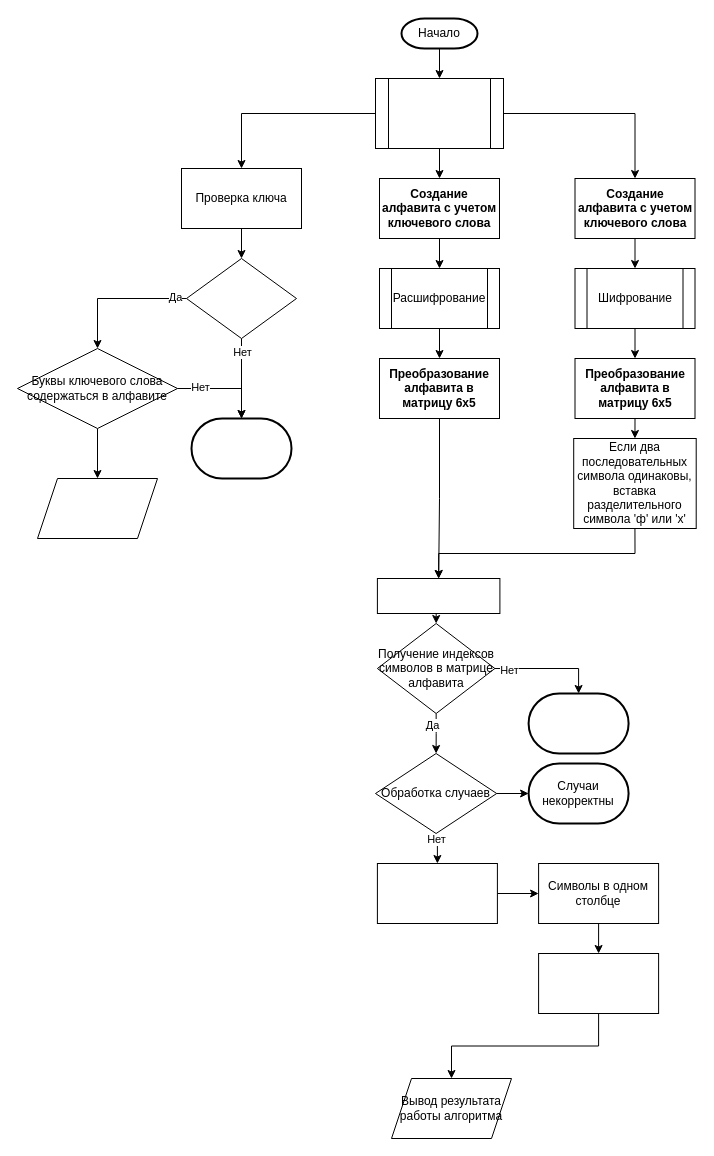
Some shapes in this 714 by 1156 pixel diagram are drawn without their labels. The shapes that lost their labels are listed below. From the top down, each one's centre as x and y in pixels, then its label:
the point at 439,113: Получение подготовленного текста, матрицы, алфавита и ключевого слова
the point at 241,298: Буквы в слове уникальны
the point at 241,448: Вернуть отрицательный результат
the point at 97,508: Вернуть положительный результат
the point at 438,596: Для каждой биграммы
the point at 578,723: Ошибка получения индексов
the point at 436,893: Символы в одной строке
the point at 598,983: Символы образуют прямоугольник
